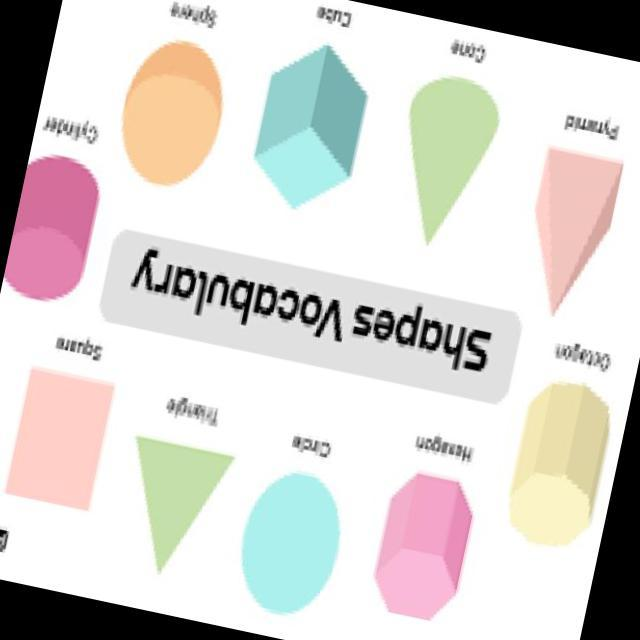circle: (233, 438, 355, 621), (110, 28, 242, 192)
square: (0, 346, 126, 530)
triangle: (125, 416, 238, 584)
